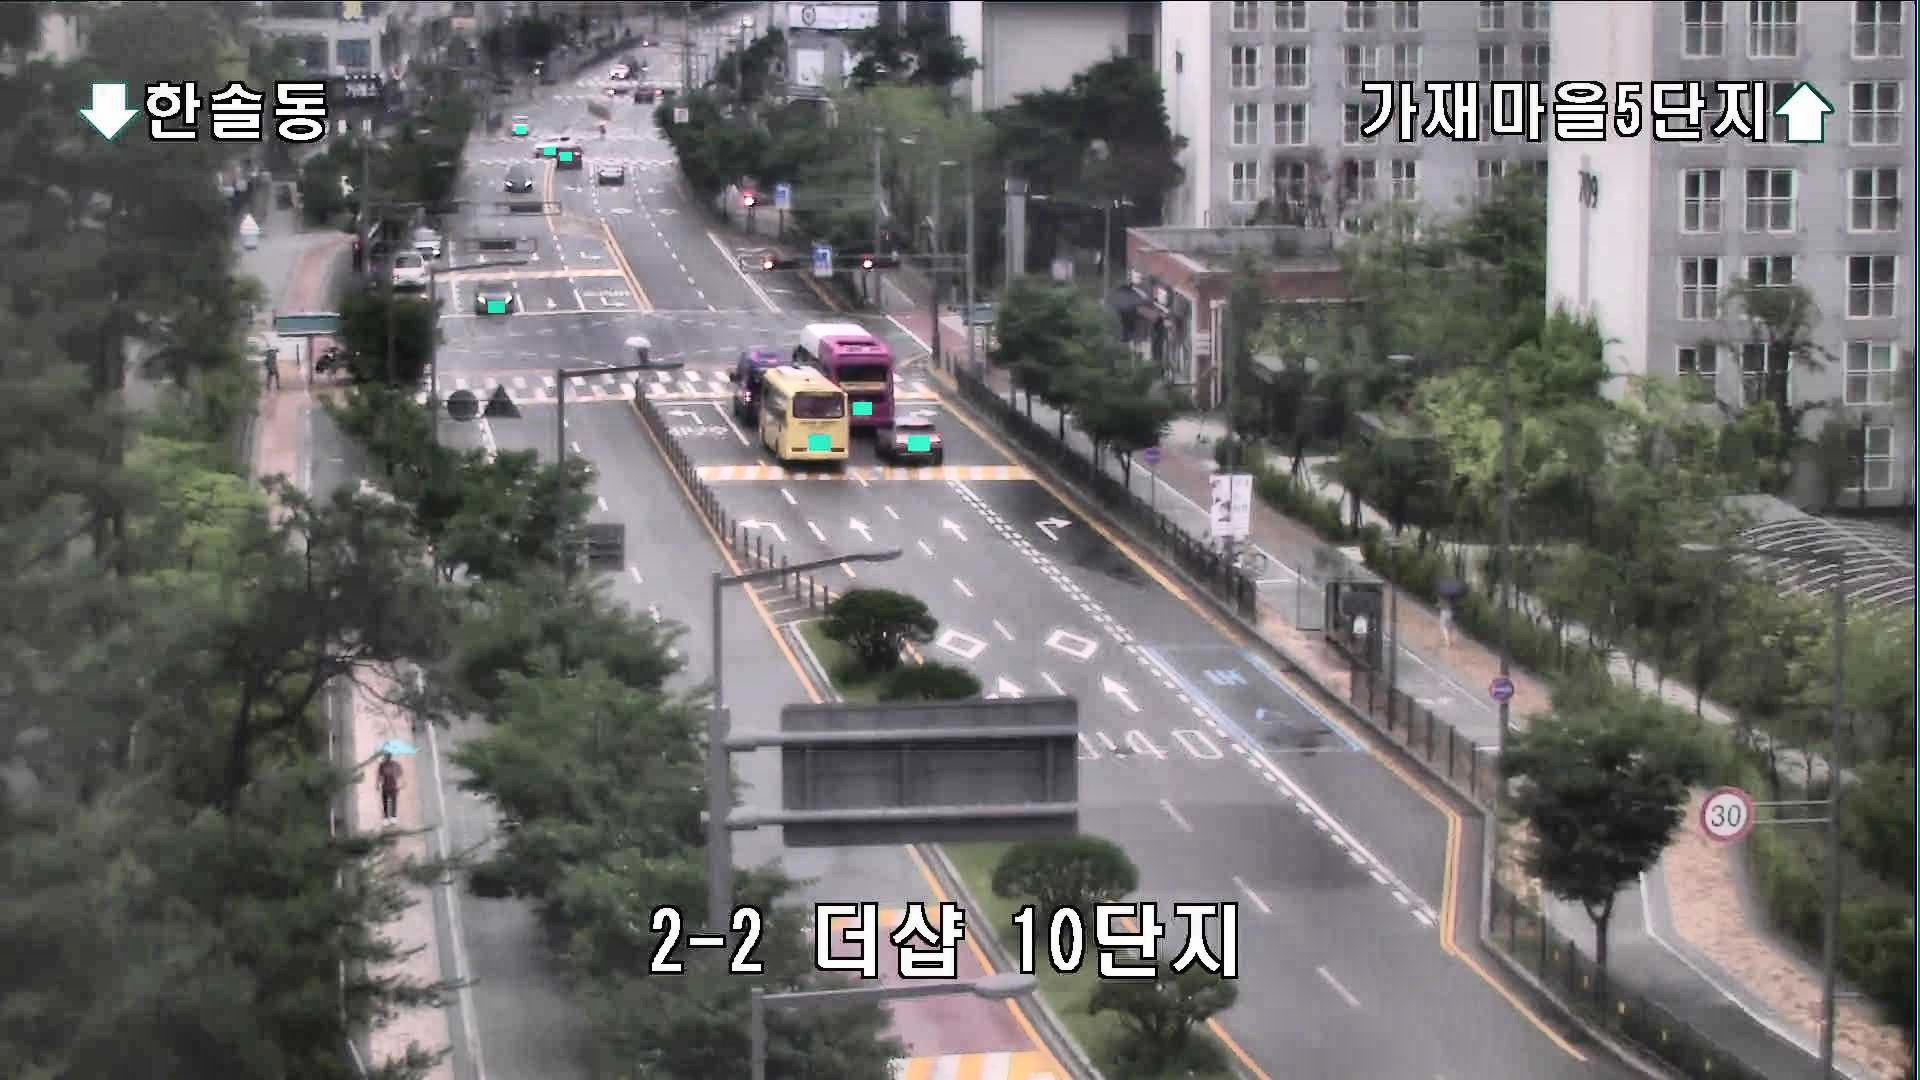um_crosswalk: (622, 335, 651, 386)
um_sidewalk: (369, 745, 418, 825), (1431, 576, 1469, 649), (257, 342, 284, 398)
